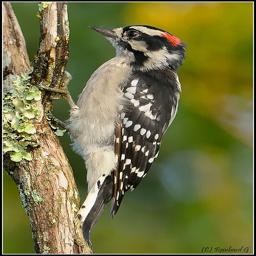Woodpecker: (43, 25, 191, 247)
